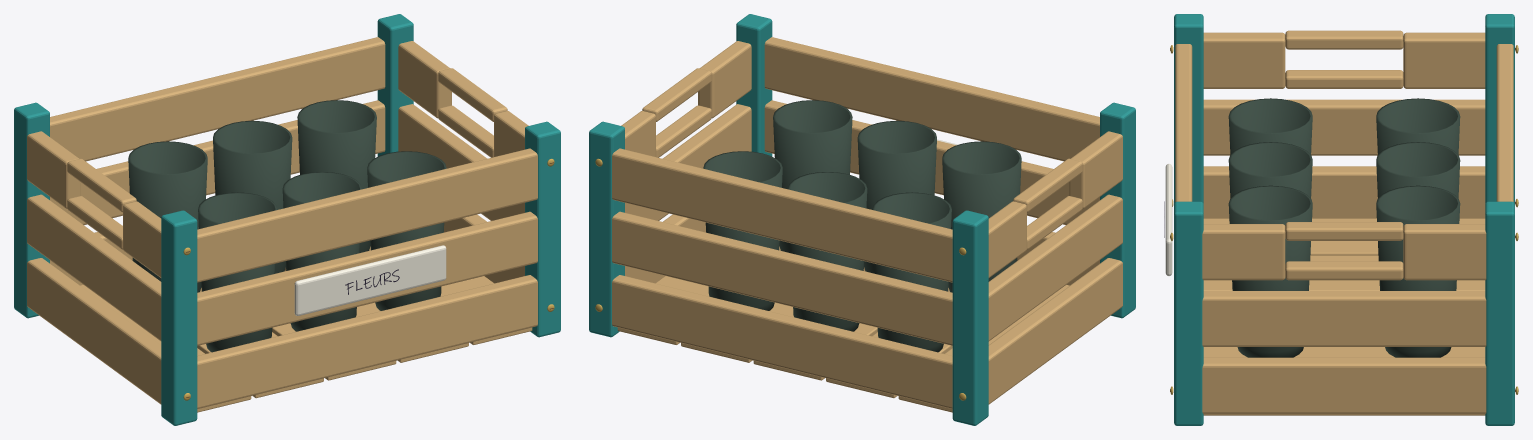
File: crate_flowers.glb
The picture shows the model from 3 angles, left to right: view 1: azimuth 30°, elevation 25°; view 2: azimuth 150°, elevation 25°; view 3: azimuth 270°, elevation 25°; orthographic projection. The views are drawn at different scales.
Parts seen in each view (by area): view 1: Front_rear_slat.005, Front_rear_slat.003, Front_rear_slat.002, Front_rear_slat.004, Side_lower_slat.001, Side_lower_slat, Corner_upright.001, Removable_water_cup.002, Removable_water_cup.001, Corner_upright.003, Removable_inventory_label, Removable_water_cup (+19 smaller); view 2: Front_rear_slat.002, Front_rear_slat, Front_rear_slat.001, Front_rear_slat.005, Side_lower_slat.001, Side_lower_slat, Corner_upright, Removable_water_cup.005, Removable_water_cup.004, Corner_upright.002, Removable_water_cup.003, Corner_upright.001 (+18 smaller); view 3: Side_lower_slat.002, Side_lower_slat.003, Side_lower_slat.001, Corner_upright.002, Corner_upright.003, Side_lower_slat, Removable_water_cup.002, Removable_water_cup.005, Side_handle_cheek.002, Side_handle_cheek.003, Side_handle_cheek, Side_handle_cheek.001 (+17 smaller).
Boxes of the visible parts, x1,y1,x2,y2 form: Front_rear_slat.005: (197,148,537,282); Front_rear_slat.003: (197,275,537,408); Front_rear_slat.002: (50,37,385,161); Front_rear_slat.004: (197,211,537,345); Side_lower_slat.001: (27,194,161,341); Side_lower_slat: (27,258,161,404); Corner_upright.001: (161,210,197,425); Removable_water_cup.002: (297,100,376,252); Removable_water_cup.001: (213,120,292,273); Corner_upright.003: (525,121,560,337); Removable_inventory_label: (294,245,446,315); Removable_water_cup: (128,141,207,292); Front_rear_slat.002: (612,148,952,282); Front_rear_slat: (612,275,952,408); Front_rear_slat.001: (612,211,952,345); Front_rear_slat.005: (764,37,1099,161); Side_lower_slat.001: (988,194,1122,341); Side_lower_slat: (988,258,1122,404); Corner_upright: (952,210,988,425); Removable_water_cup.005: (773,100,852,252); Removable_water_cup.004: (857,120,936,273); Corner_upright.002: (589,121,624,337); Removable_water_cup.003: (942,141,1021,292); Corner_upright.001: (1100,102,1135,318); Side_lower_slat.002: (1202,357,1486,413); Side_lower_slat.003: (1202,291,1486,346); Side_lower_slat.001: (1203,99,1485,155); Corner_upright.002: (1485,201,1514,425); Corner_upright.003: (1174,201,1203,425); Side_lower_slat: (1203,166,1485,218); Removable_water_cup.002: (1376,185,1460,357); Removable_water_cup.005: (1228,185,1312,357); Side_handle_cheek.002: (1403,224,1486,280); Side_handle_cheek.003: (1202,224,1285,280); Side_handle_cheek: (1403,32,1485,88); Side_handle_cheek.001: (1203,32,1285,88).
Size of the model in its own units: 0.642 by 0.32 by 0.4803.
